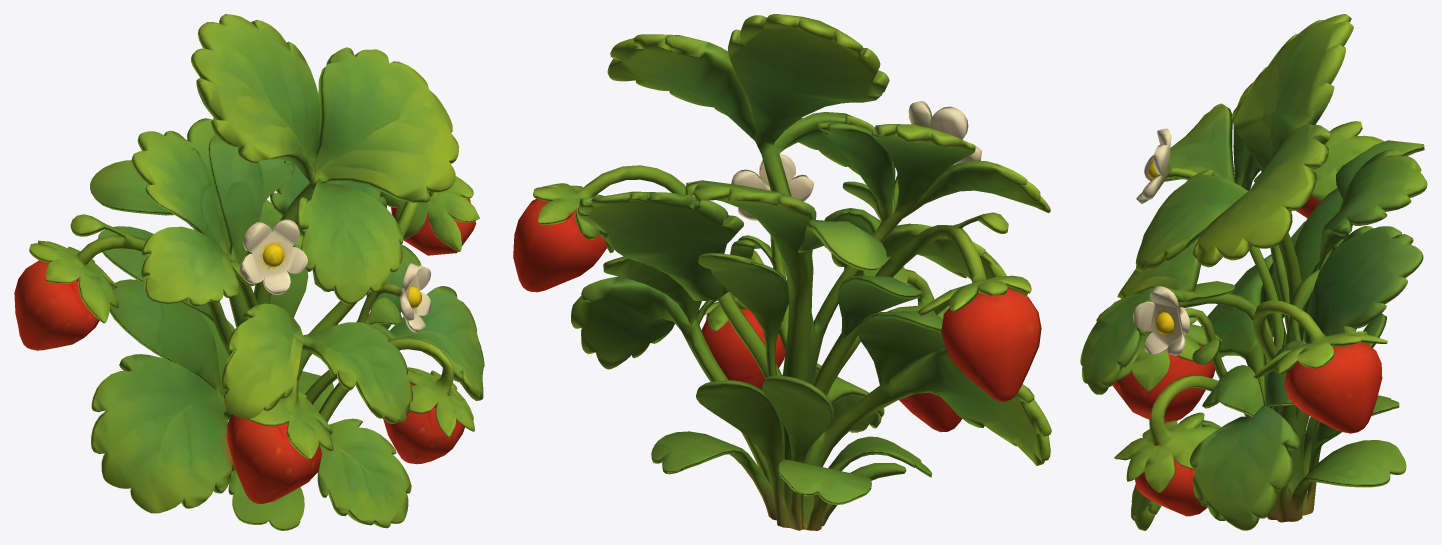
The model's file is strawberry.glb.
The picture shows the model from 3 angles, left to right: view 1: azimuth 30°, elevation 25°; view 2: azimuth 150°, elevation 25°; view 3: azimuth 270°, elevation 25°; orthographic projection. The views are drawn at different scales.
Parts seen in each view (by area): view 1: tripo_node_89cad665-d786-42b5-8622-0cae3ceaf25e; view 2: tripo_node_89cad665-d786-42b5-8622-0cae3ceaf25e; view 3: tripo_node_89cad665-d786-42b5-8622-0cae3ceaf25e.
Boxes of the visible parts, left/top/right/bottom form: tripo_node_89cad665-d786-42b5-8622-0cae3ceaf25e: left=14, top=14, right=484, bottom=530; tripo_node_89cad665-d786-42b5-8622-0cae3ceaf25e: left=513, top=14, right=1051, bottom=530; tripo_node_89cad665-d786-42b5-8622-0cae3ceaf25e: left=1080, top=14, right=1427, bottom=530.
Bounding box in the file's own units: 0.9995 × 0.9995 × 0.648.
Materials: 1 (1 with a texture image).
